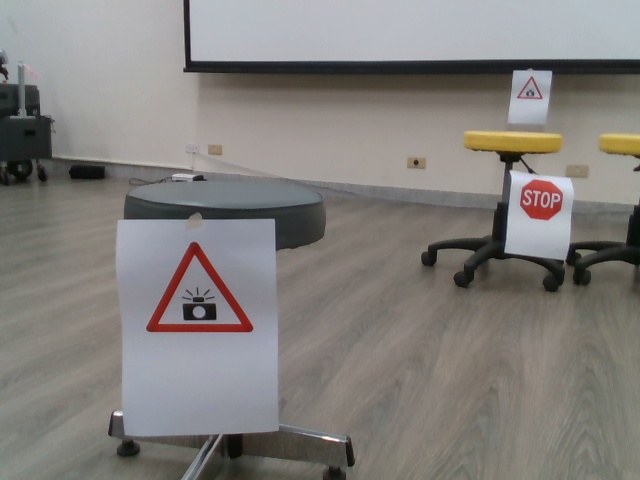camera: (143, 241, 257, 337)
stop: (516, 177, 564, 223)
